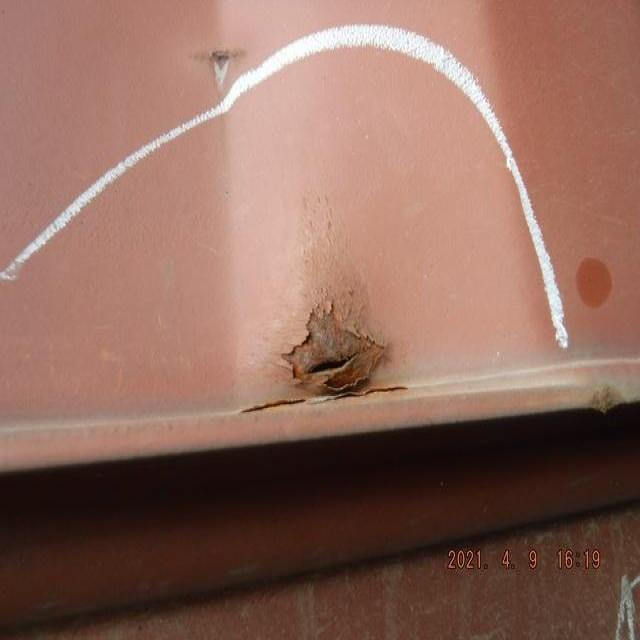rust: (280, 301, 387, 394)
